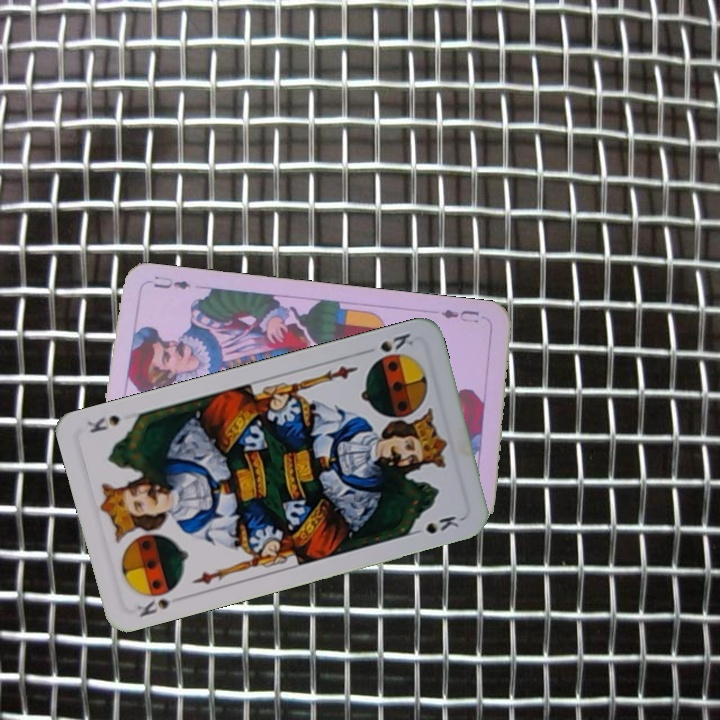EU: (437, 304, 482, 326)
SK: (133, 583, 187, 620), (376, 329, 416, 355)
